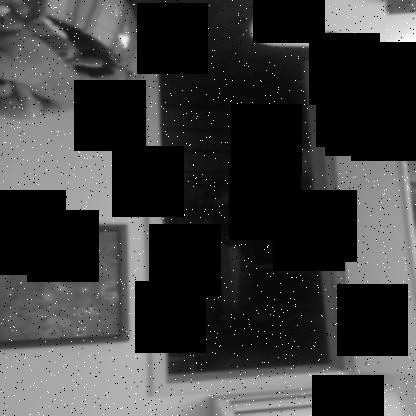Porte: (141, 39, 415, 400)
